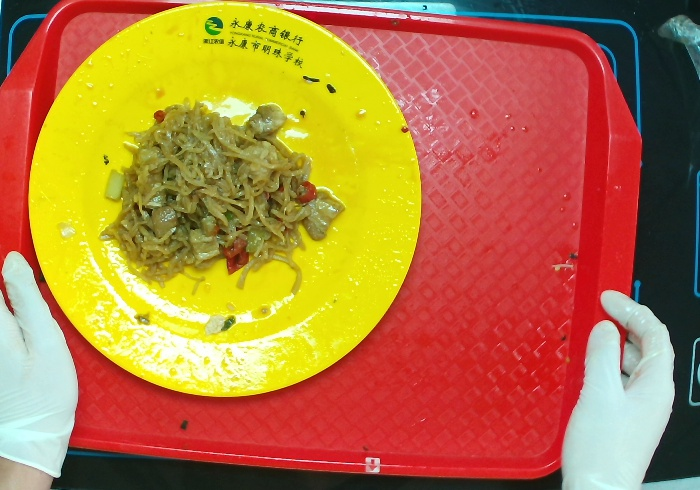YKMZ-Huang_Se_Mian_Pan: (25, 1, 433, 404)
